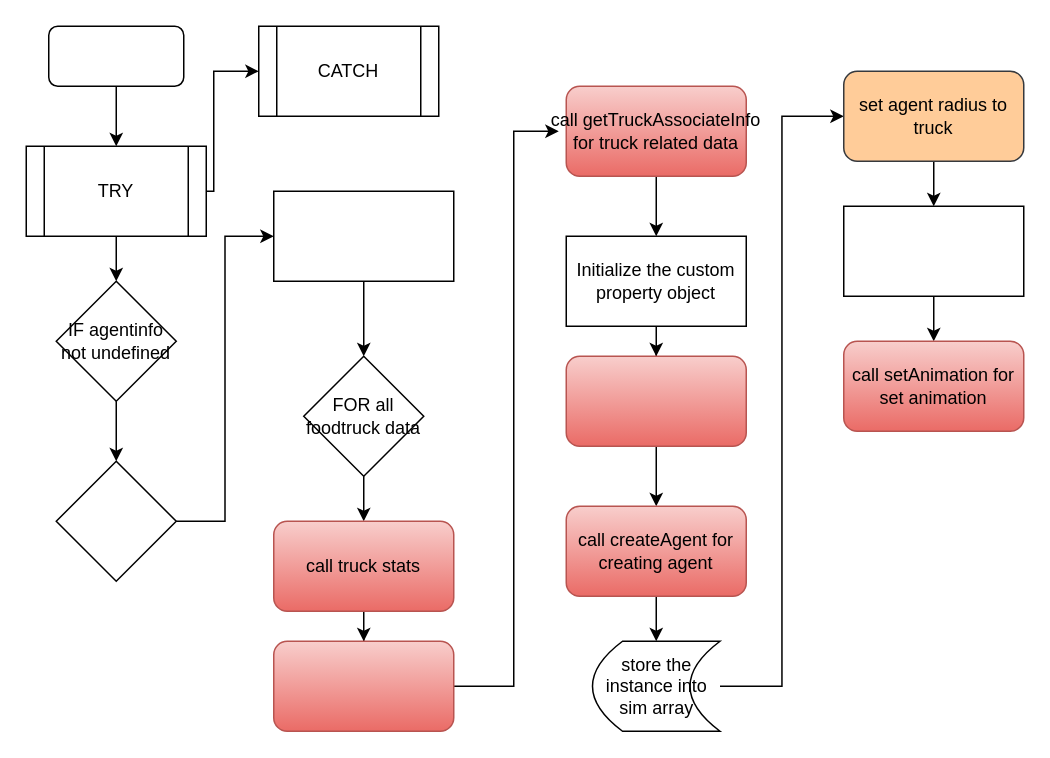
Some shapes in this 1050 by 758 pixel diagram are drawn without their labels. The centre of each missing label's shape, as x and y in pixels:
"call getTrgtAgentType" goes at point (363, 685).
"call truck custom property get function" goes at point (655, 400).
"construct the game start animation req obj" goes at point (933, 250).
"get the foodtruck data and tower ids" goes at point (363, 235).
"IF agentinfo has foodtruck" goes at point (115, 520).
"start" goes at point (115, 55).
